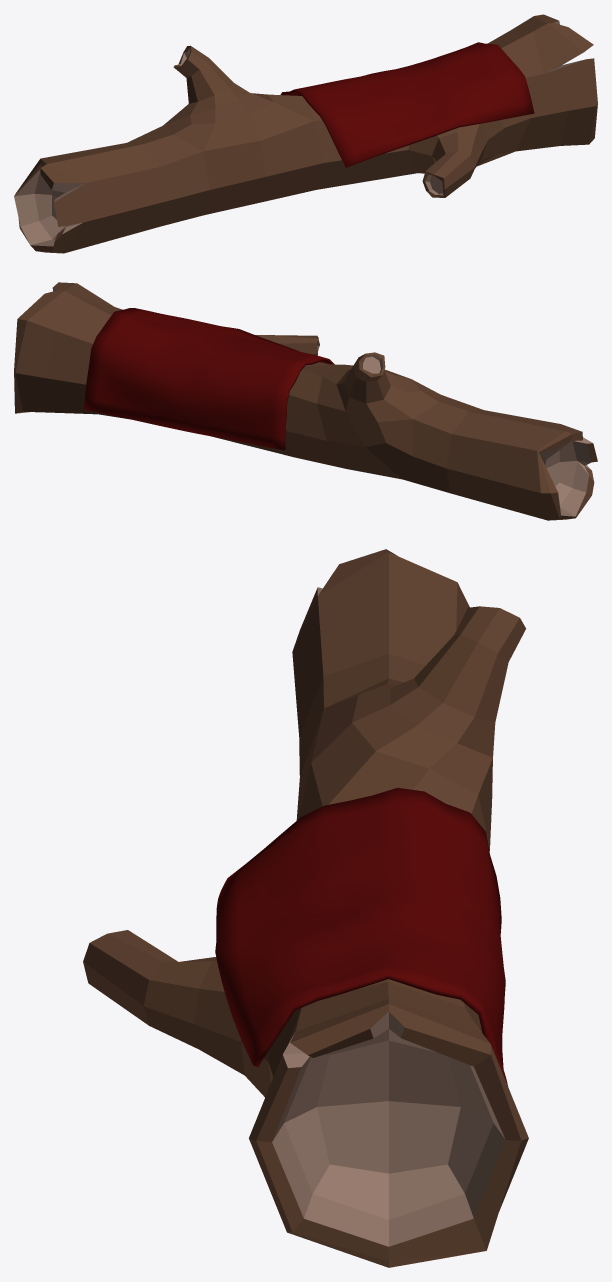
Rendered from koraga with pled.fbx.
3 renders of one model, top to bottom at view 1: azimuth 30°, elevation 25°; view 2: azimuth 150°, elevation 25°; view 3: azimuth 270°, elevation 25°, orthographic. The views are drawn at different scales.
Visible parts, largest first — view 1: Cube, Plane; view 2: Cube, Plane; view 3: Cube, Plane.
Part boxes in pixels (x1,y1,x2,y2): Cube: (14,14,597,253); Plane: (280,42,534,167); Cube: (14,282,597,520); Plane: (84,308,334,450); Cube: (83,549,528,1267); Plane: (215,787,508,1086).
Size of the model in its own units: 843 by 240 by 300.
